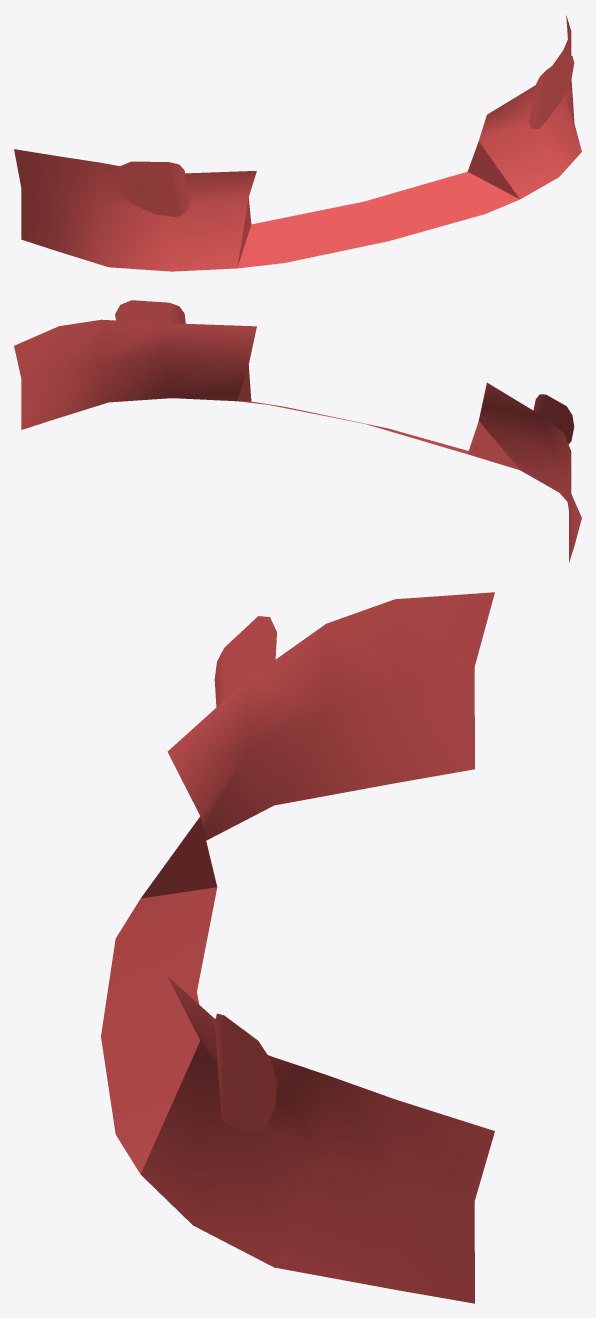
The model's file is Supra_FrontBar_02_Trim.fbx.
3 renders of one model, top to bottom at view 1: azimuth 30°, elevation 25°; view 2: azimuth 150°, elevation 25°; view 3: azimuth 270°, elevation 25°, orthographic. The views are drawn at different scales.
Visible parts, largest first — view 1: Supra_FrontBar_02_Trim; view 2: Supra_FrontBar_02_Trim; view 3: Supra_FrontBar_02_Trim.
Boxes of the visible parts, <box> form: Supra_FrontBar_02_Trim: <box>14,15,581,271</box>; Supra_FrontBar_02_Trim: <box>14,300,581,562</box>; Supra_FrontBar_02_Trim: <box>101,592,494,1303</box>.
Bounding box in the file's own units: 165 × 29.67 × 50.92.
